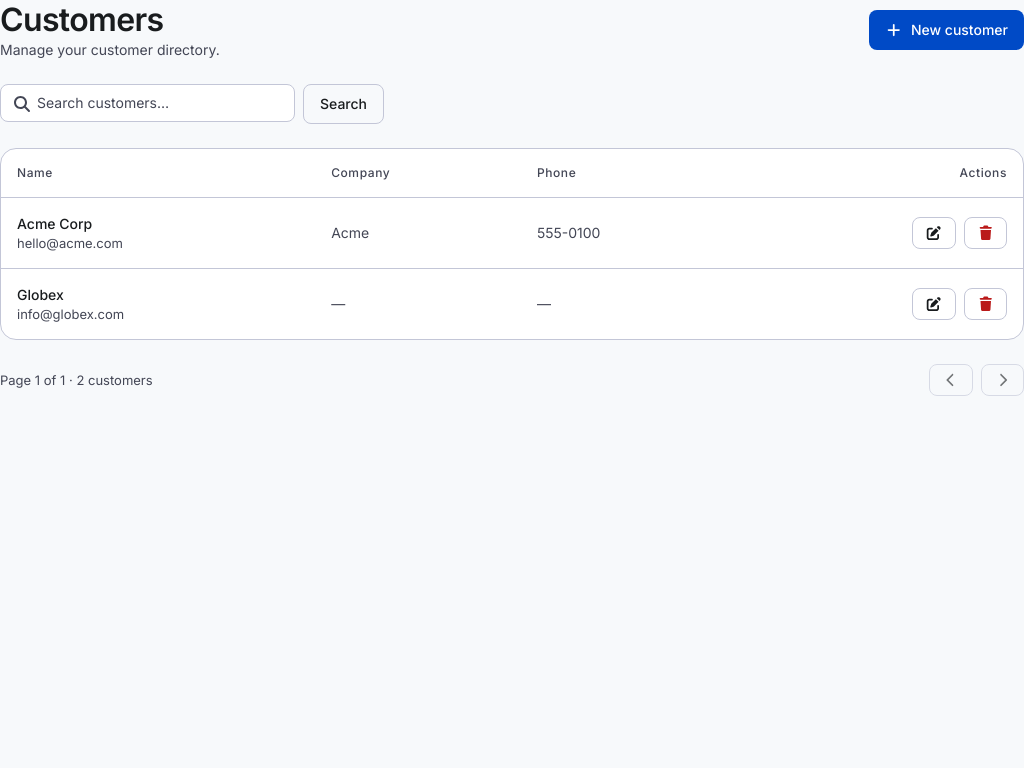
Scenario: CustomersView — delete › can cancel the delete confirmation
Expected: the text "Acme Corp" is shown, [17, 215, 92, 232]
Click the button named "Delete Globex". click: [985, 304]
box: [964, 288, 1007, 320]
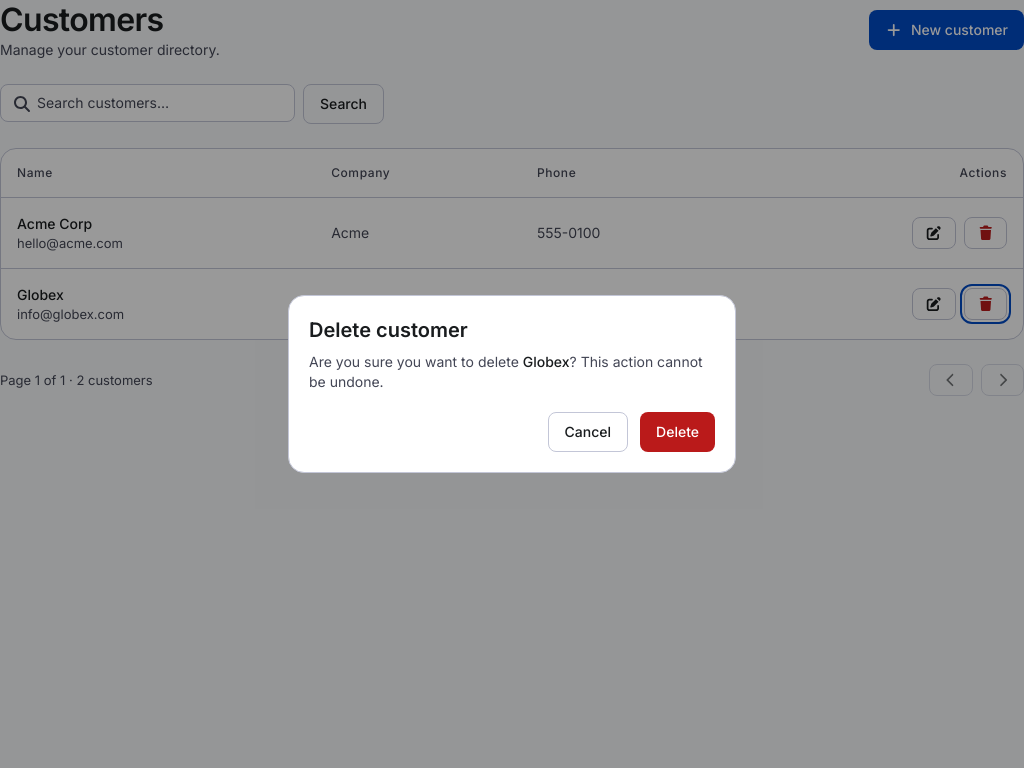
Click the button "Cancel". click: [588, 432]
box: [548, 412, 628, 452]
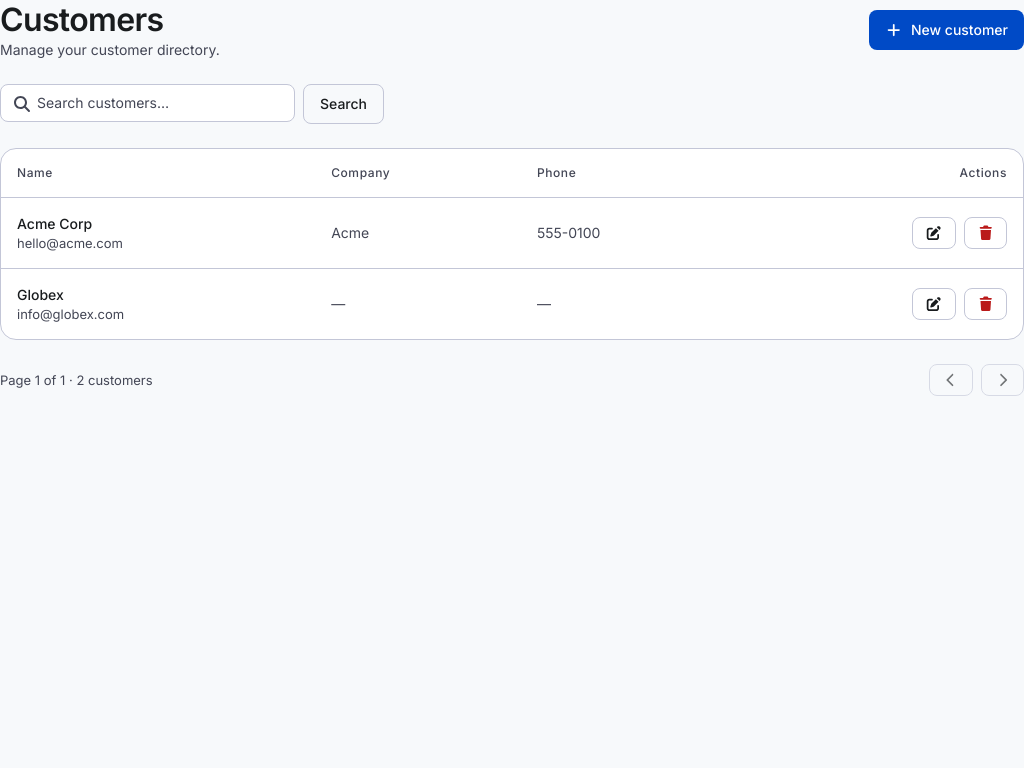
Expected: the dialog is gone
